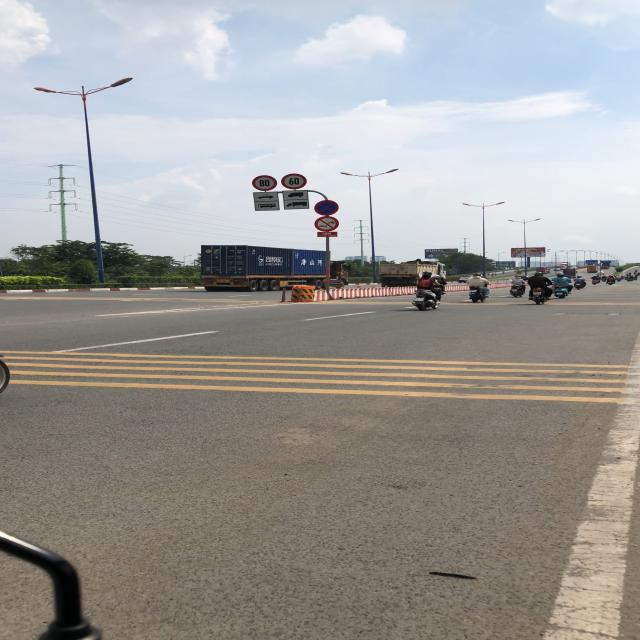Bien bao cam dung xe va do xe: (312, 199, 340, 216)
Bien bao toc do toi da cho phep: (279, 172, 310, 190), (250, 175, 279, 193)
